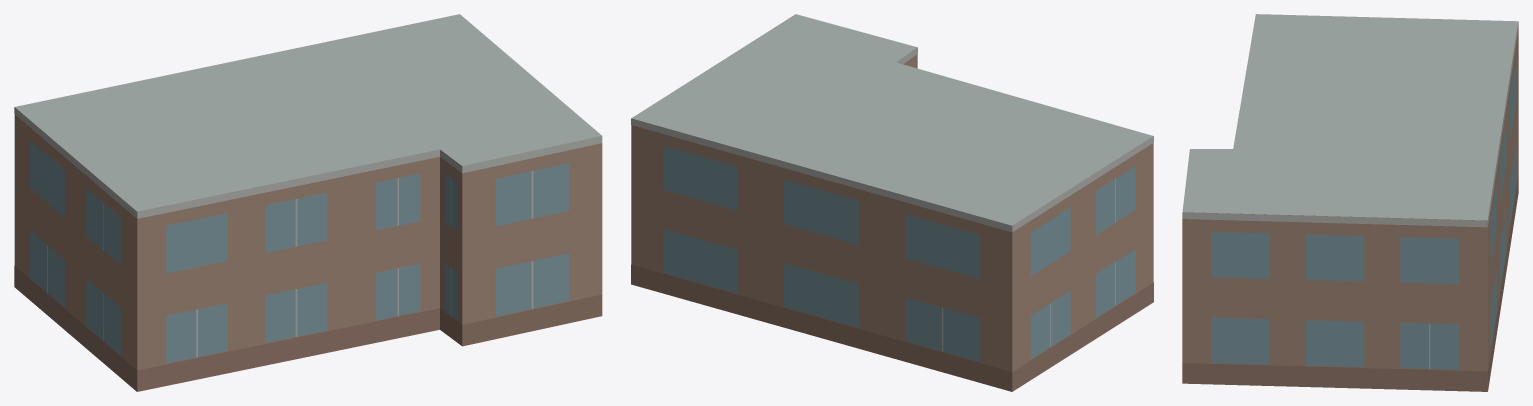
The model's file is survey-upis-32880704.glb.
3 renders of one model, left to right at view 1: azimuth 30°, elevation 25°; view 2: azimuth 150°, elevation 25°; view 3: azimuth 270°, elevation 25°, orthographic. The views are drawn at different scales.
Parts seen in each view (by area): view 1: survey-upis-32880704.tmp; view 2: survey-upis-32880704.tmp; view 3: survey-upis-32880704.tmp.
Part boxes in pixels (<box>): survey-upis-32880704.tmp: <box>14,14,602,391</box>; survey-upis-32880704.tmp: <box>631,14,1153,391</box>; survey-upis-32880704.tmp: <box>1182,14,1518,391</box>.
Size of the model in its own units: 15.77 by 6.1 by 10.85.
